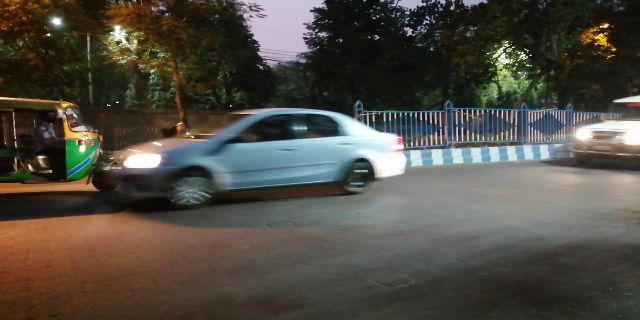Autorickshaw: (5, 95, 96, 184)
Car: (101, 105, 407, 200), (573, 93, 640, 165)
